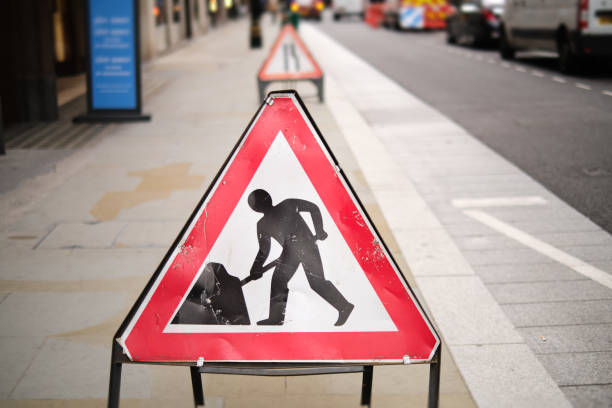yol_calismasi_levha: (119, 91, 451, 369)
